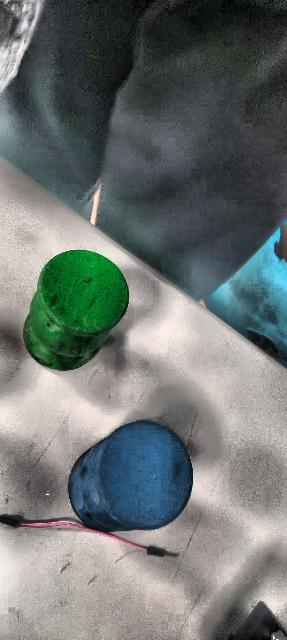blue: (68, 420, 194, 532), (22, 249, 130, 371)
